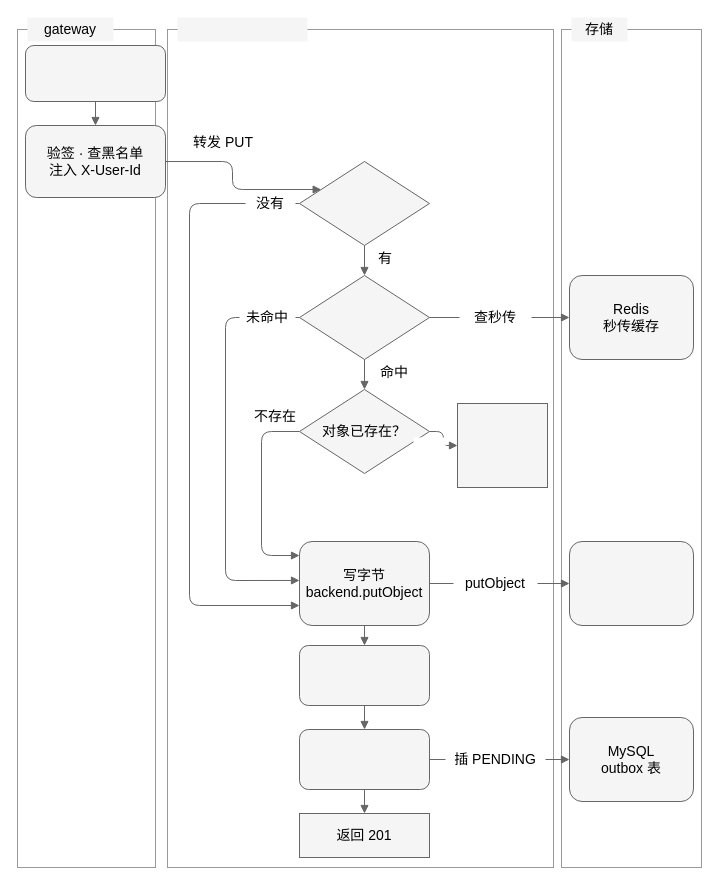
Image size: 719x885. Some labels were removed from this diagram. Each missing label, with the centre of its shape:
object-storage: (242,29)
PUT /{bucket}/{key} 带 x-cloud-disk-md5: (95,73)
取 ETag 写 3 份缓存: (364,675)
存在: (429,448)
对象存储后端 MinIO/本地盘/OSS: (631,583)
带 MD5？: (364,203)
插 outbox PENDING: (364,759)
缓存命中？: (364,317)
返回 200 instant=true: (502,445)
